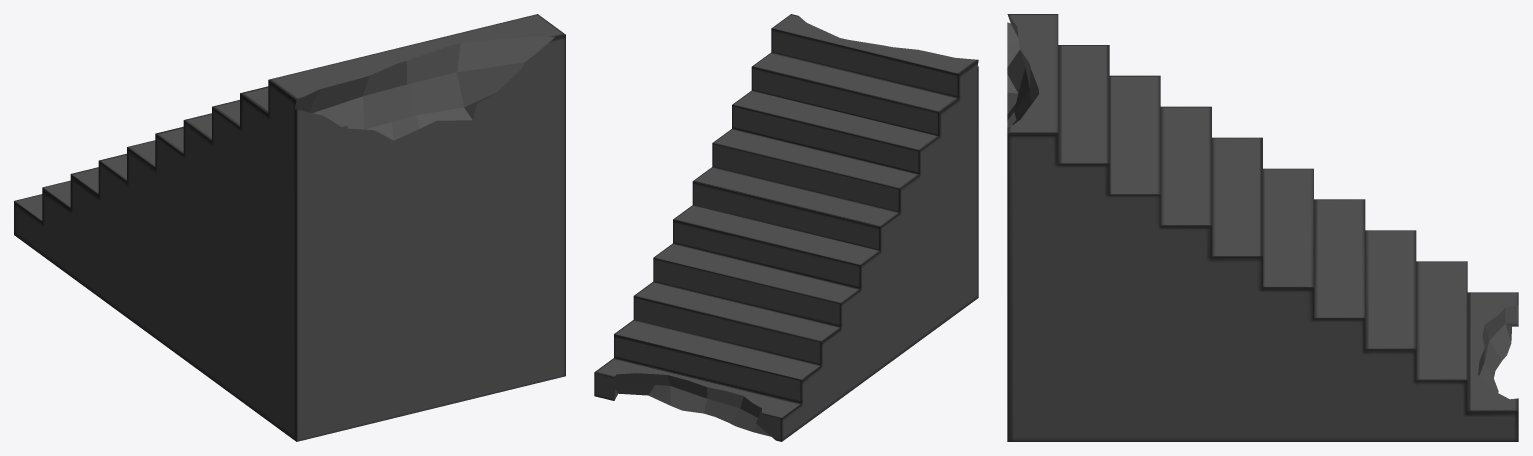
The model's file is MERDİVENson.fbx.
3 views of the same model, side by side, from view 1: azimuth 30°, elevation 25°; view 2: azimuth 150°, elevation 25°; view 3: azimuth 270°, elevation 25° (orthographic). The views are drawn at different scales.
Visible parts, largest first — view 1: Stairs_0_35___1_.002; view 2: Stairs_0_35___1_.002; view 3: Stairs_0_35___1_.002.
Boxes of the visible parts, x1,y1,x2,y2 form: Stairs_0_35___1_.002: (14,14,565,441); Stairs_0_35___1_.002: (594,14,978,441); Stairs_0_35___1_.002: (1007,14,1518,441).
Bounding box in the file's own units: 3 × 3.64 × 5.45.
Materials: 1 (1 with a texture image).
